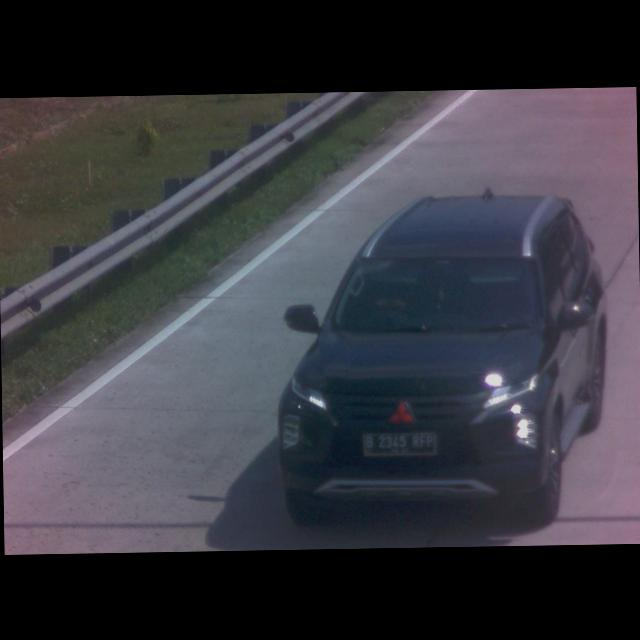plate: (360, 428, 436, 456)
